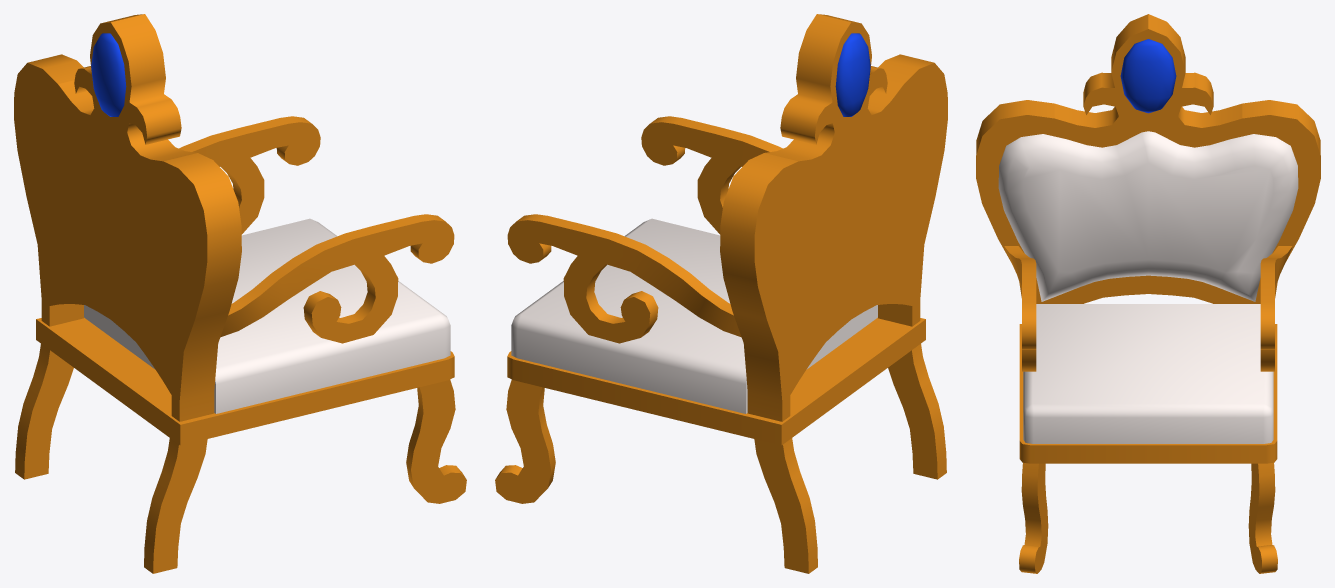
File: ghe 02.FBX
3 views of the same model, side by side, from view 1: azimuth 30°, elevation 25°; view 2: azimuth 150°, elevation 25°; view 3: azimuth 270°, elevation 25° (orthographic). The views are drawn at different scales.
Visible parts, largest first — view 1: Object1221; view 2: Object1221; view 3: Object1221.
Part boxes in pixels (left/top/right/bottom): Object1221: left=14, top=14, right=466, bottom=573; Object1221: left=495, top=14, right=947, bottom=573; Object1221: left=976, top=14, right=1320, bottom=573.
Size of the model in its own units: 1.5 by 2.26 by 1.6.
